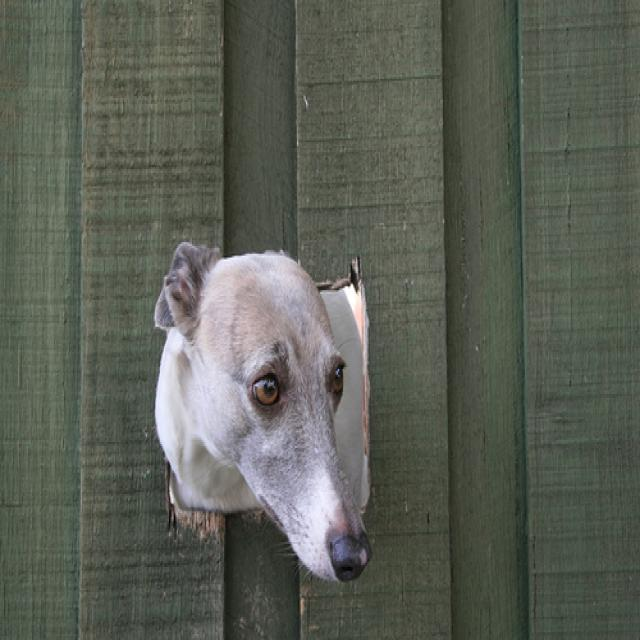dog: (153, 241, 375, 591)
